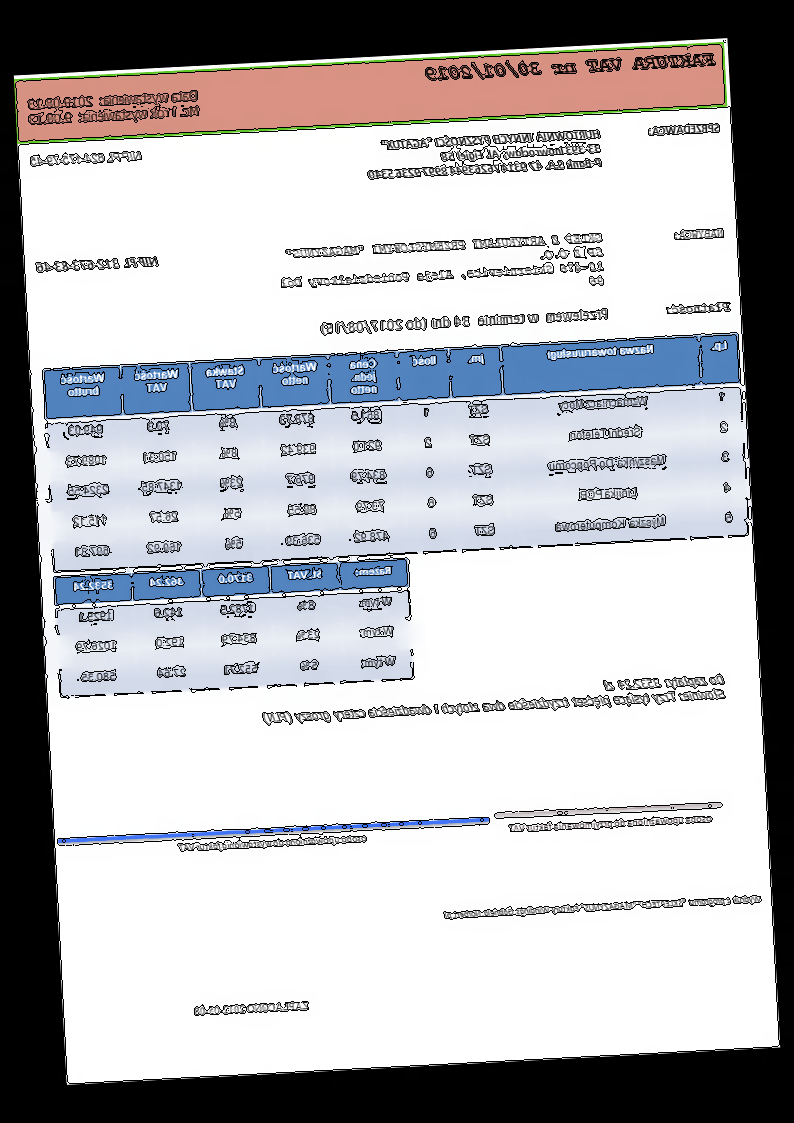Table: (42, 331, 750, 574), (53, 557, 415, 698), (261, 671, 728, 728)
TextBox: (276, 229, 609, 305), (365, 127, 604, 182), (424, 48, 718, 86), (442, 892, 764, 923), (320, 306, 611, 337), (26, 86, 203, 127), (507, 812, 715, 836), (176, 832, 369, 855), (34, 253, 162, 275), (29, 148, 145, 169), (193, 998, 311, 1017), (647, 120, 723, 139), (665, 298, 732, 317), (672, 226, 727, 241)
